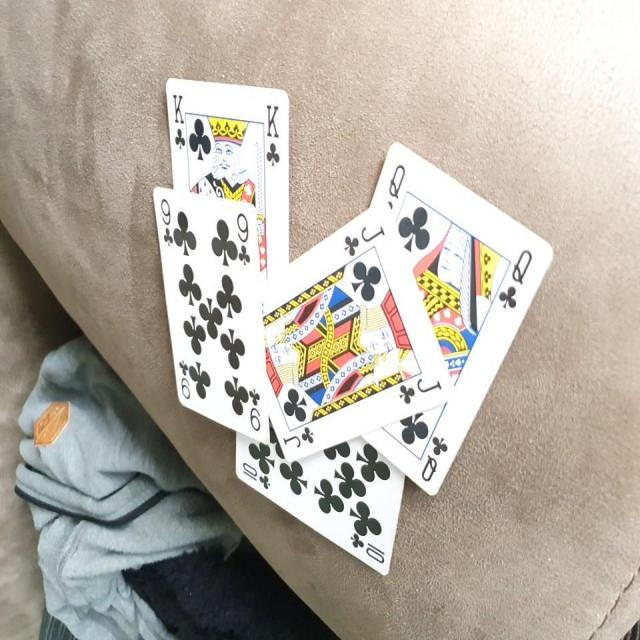10 Trefoils: (232, 428, 405, 578)
9 Trefoils: (150, 184, 270, 447)
J Trefoils: (262, 196, 459, 462)
K Trefoils: (163, 74, 291, 276)
Q Trefoils: (351, 138, 556, 498)
